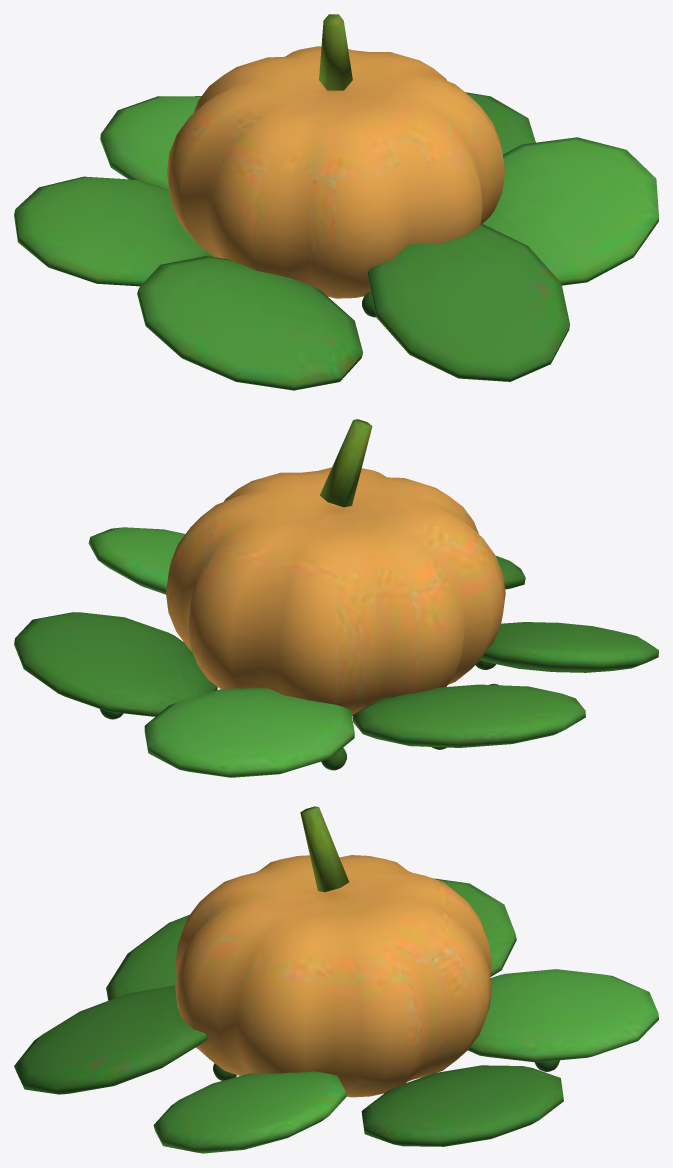
Rendered from crop_butternut.glb.
The picture shows the model from 3 angles, top to bottom: view 1: azimuth 30°, elevation 25°; view 2: azimuth 150°, elevation 25°; view 3: azimuth 270°, elevation 25°; orthographic projection. The views are drawn at different scales.
Visible parts, largest first — view 1: crop_butternut, fruit; view 2: fruit, crop_butternut; view 3: fruit, crop_butternut.
Boxes of the visible parts, x1=… form: crop_butternut: x1=14, y1=14, x2=658, y2=390; fruit: x1=166, y1=46, x2=504, y2=298; fruit: x1=166, y1=467, x2=505, y2=715; crop_butternut: x1=14, y1=419, x2=658, y2=777; fruit: x1=175, y1=855, x2=491, y2=1097; crop_butternut: x1=14, y1=806, x2=658, y2=1153.
Size of the model in its own units: 0.3718 by 0.1749 by 0.3914.
Materials: 1 (1 with a texture image).
